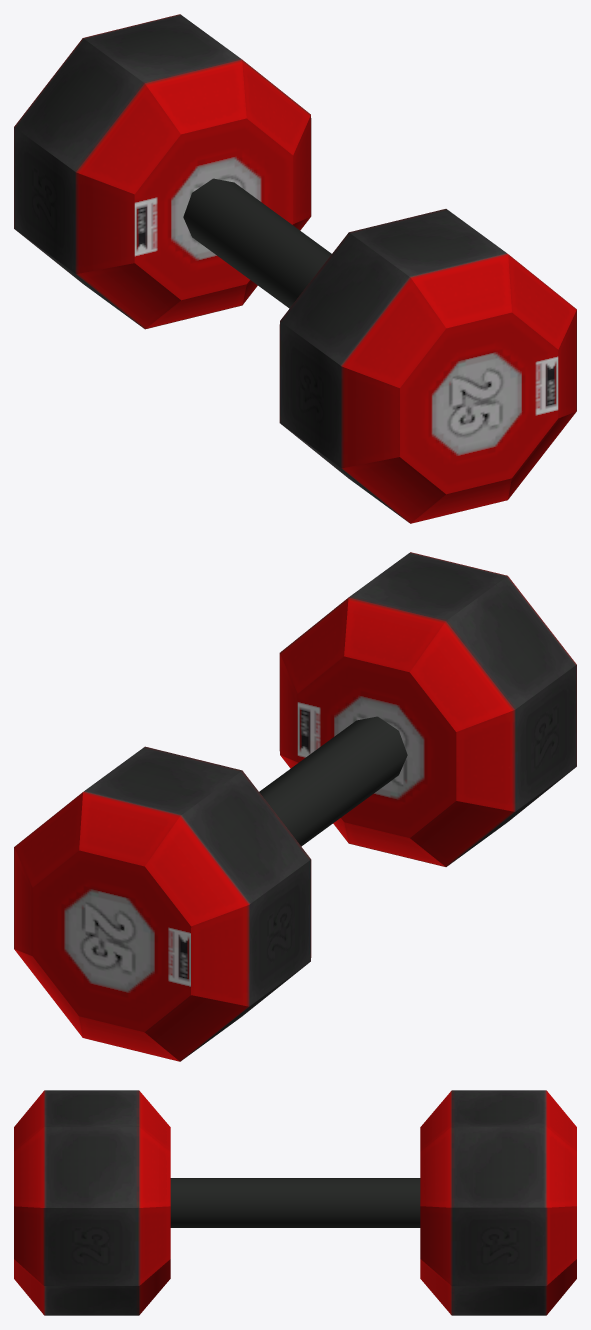
Rendered from weights_small_lod0.glb.
3 views of the same model, one above another, from view 1: azimuth 30°, elevation 25°; view 2: azimuth 150°, elevation 25°; view 3: azimuth 270°, elevation 25° (orthographic). The views are drawn at different scales.
Visible parts, largest first — view 1: surf0, surf1; view 2: surf0, surf1; view 3: surf0, surf1.
Boxes of the visible parts, bbox=[...] form: surf0: bbox=[14, 14, 576, 523]; surf1: bbox=[183, 178, 331, 308]; surf0: bbox=[14, 552, 576, 1061]; surf1: bbox=[259, 716, 407, 846]; surf0: bbox=[14, 1090, 576, 1315]; surf1: bbox=[170, 1178, 420, 1227].
Size of the model in its own units: 5.98 by 5.98 by 16.16.
